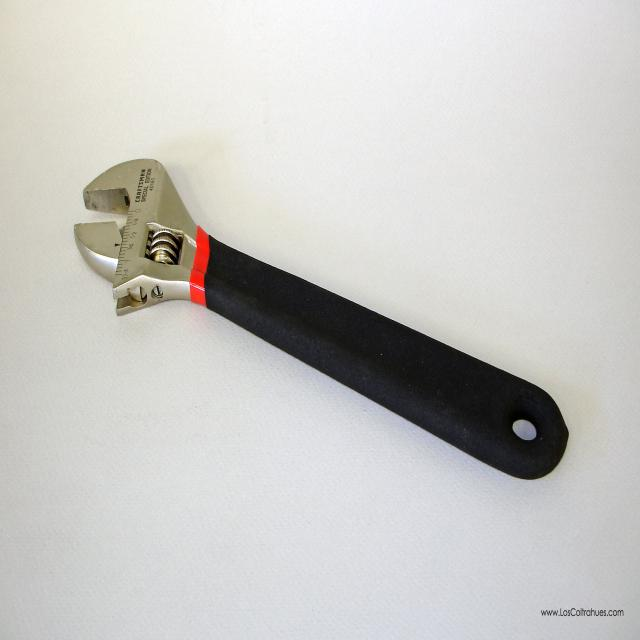wrench: (54, 137, 583, 503)
